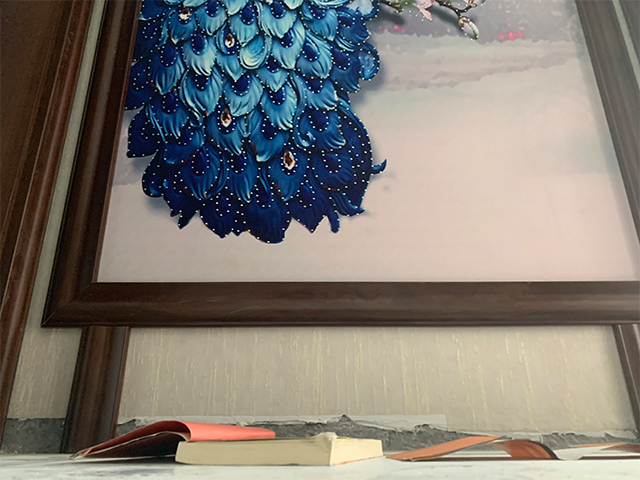book: (69, 418, 385, 466)
